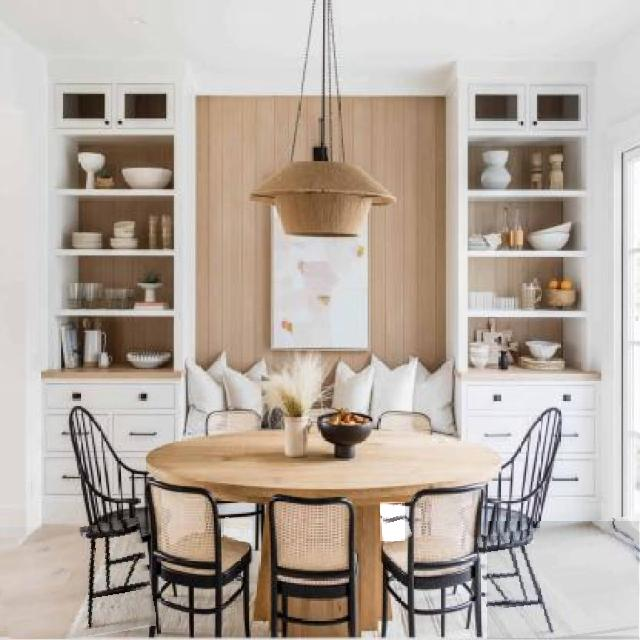floor: (488, 522, 639, 639), (0, 527, 156, 640), (381, 503, 405, 541), (225, 520, 253, 542)
